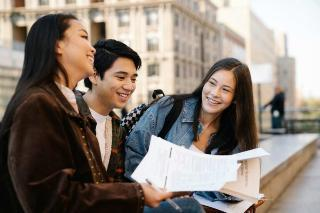person - v3 P: (0, 14, 172, 212), (125, 58, 257, 178), (75, 40, 141, 182), (264, 87, 284, 128)
